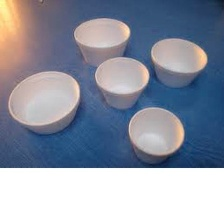paper_cup: (4, 66, 84, 138), (123, 102, 188, 168), (146, 33, 211, 92), (91, 52, 152, 113), (68, 13, 134, 69)
